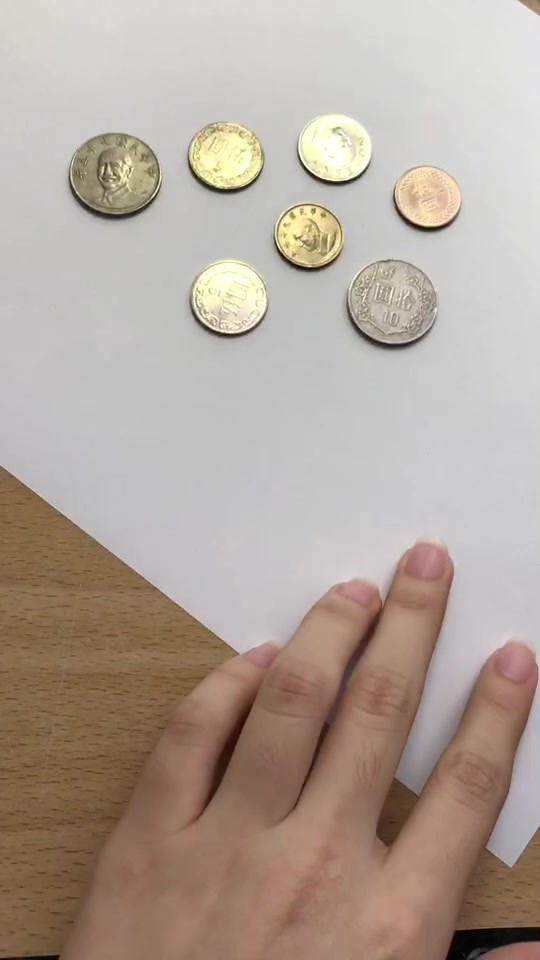1 dallar: (269, 200, 345, 275), (390, 159, 466, 234)
10 dallar: (62, 124, 165, 228), (344, 251, 447, 355)
5 dallar: (182, 253, 274, 346), (178, 103, 270, 196), (286, 97, 378, 190)
